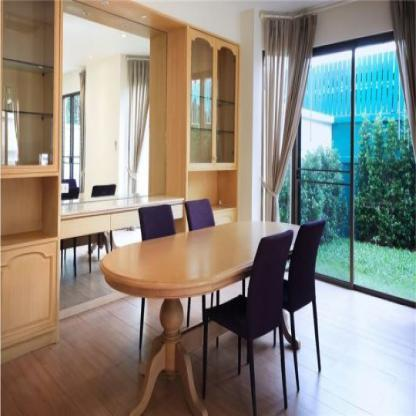chair: (197, 228, 291, 416), (116, 200, 179, 364), (284, 219, 329, 393), (184, 194, 217, 328), (55, 183, 80, 274), (90, 180, 116, 259)
door: (296, 40, 352, 289)
table: (95, 218, 314, 416), (51, 193, 183, 271)
